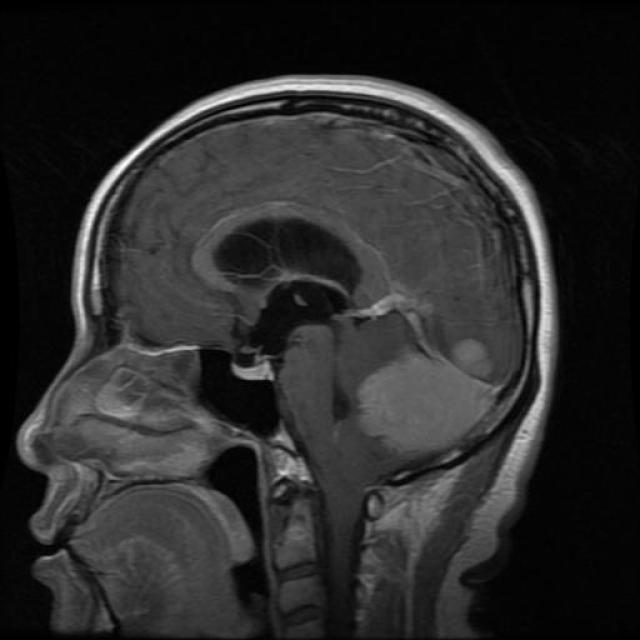meningioma: (354, 352, 498, 458)
